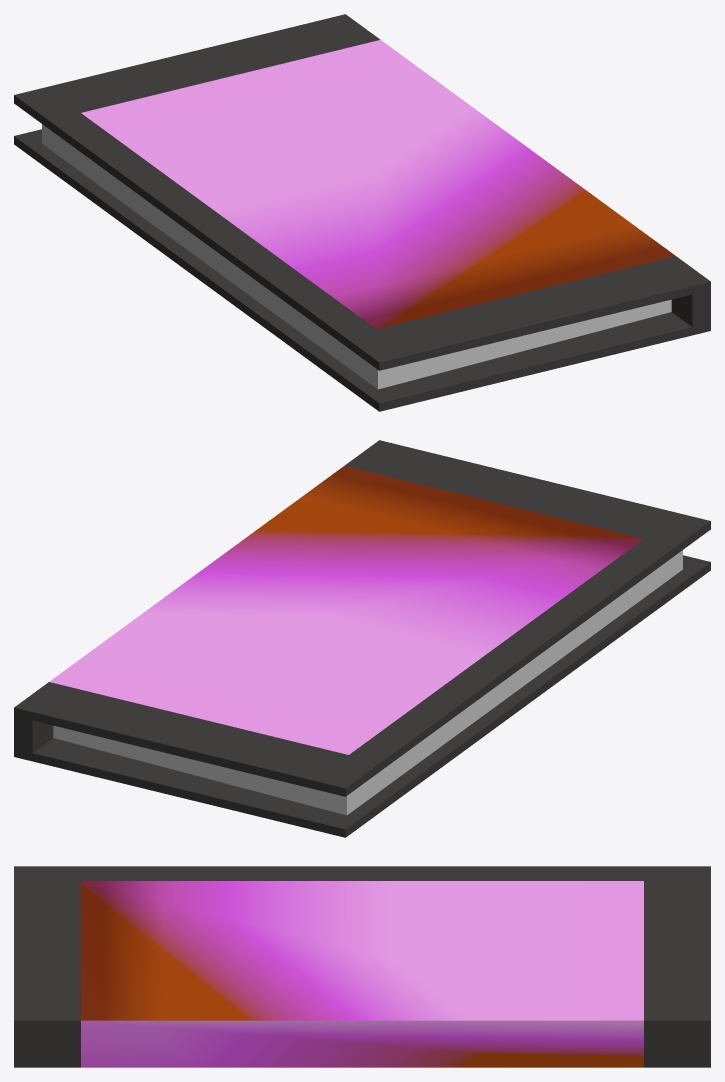
File: FurnAcc_BookV3.fbx
The picture shows the model from 3 angles, top to bottom: view 1: azimuth 30°, elevation 25°; view 2: azimuth 150°, elevation 25°; view 3: azimuth 270°, elevation 25°; orthographic projection. The views are drawn at different scales.
Parts seen in each view (by area): view 1: FurnAcc_BookV3; view 2: FurnAcc_BookV3; view 3: FurnAcc_BookV3.
Boxes of the visible parts, x1,y1,x2,y2 form: FurnAcc_BookV3: (14,14,710,411); FurnAcc_BookV3: (14,440,710,837); FurnAcc_BookV3: (14,866,710,1067).
Bounding box in the file's own units: 20.96 × 2.98 × 40.
